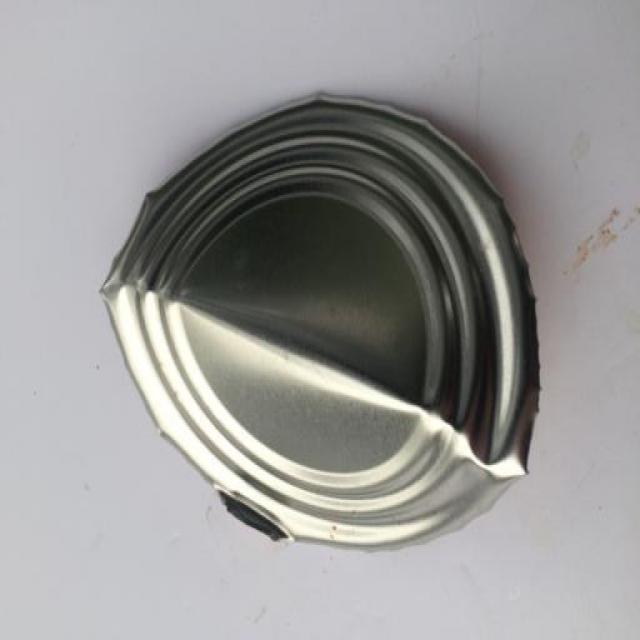metel: (101, 75, 553, 572)
